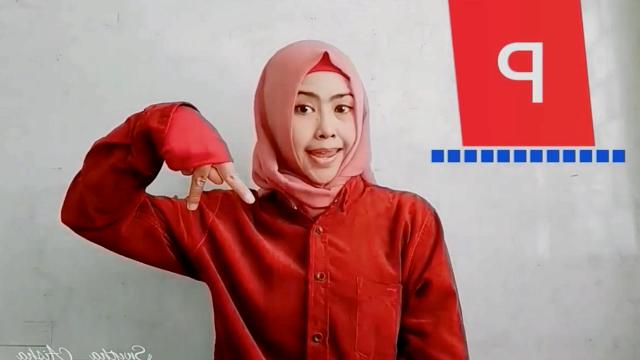P: (160, 101, 258, 213)
